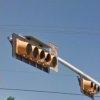traffic lights: (12, 34, 58, 70)
